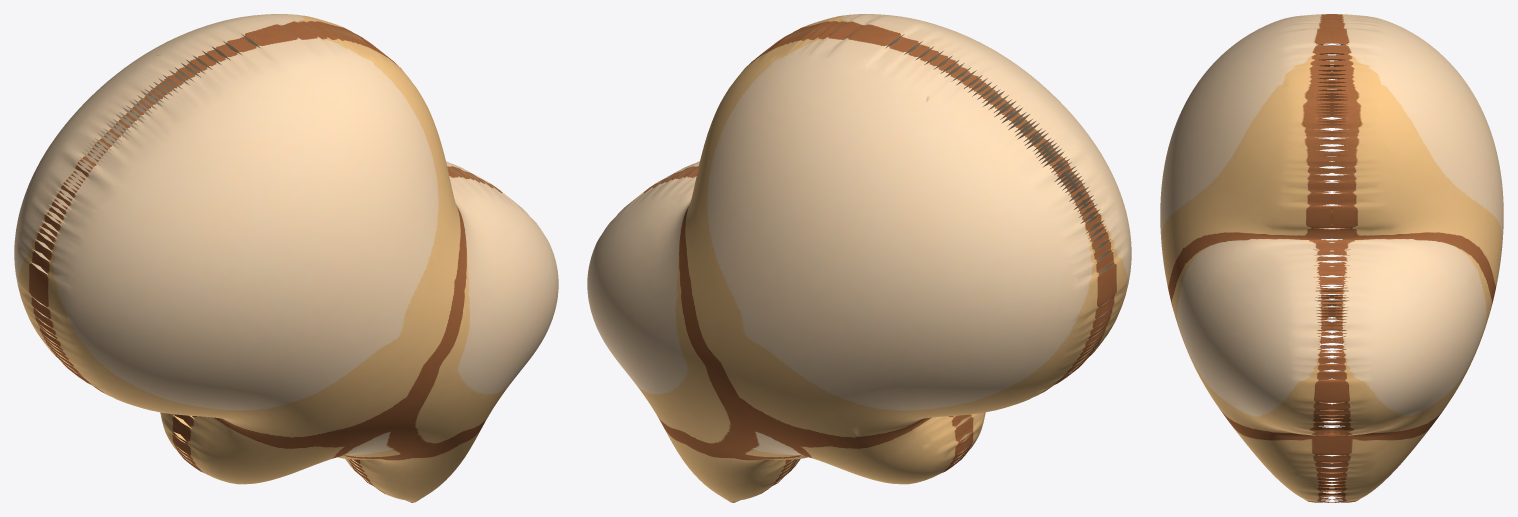
File: mushrooms_pale.glb
3 renders of one model, left to right at view 1: azimuth 30°, elevation 25°; view 2: azimuth 150°, elevation 25°; view 3: azimuth 270°, elevation 25°, orthographic. The views are drawn at different scales.
Visible parts, largest first — view 1: mushrooms_pale; view 2: mushrooms_pale; view 3: mushrooms_pale.
Boxes of the visible parts, x1,y1,x2,y2 form: mushrooms_pale: [14, 14, 558, 502]; mushrooms_pale: [587, 14, 1131, 502]; mushrooms_pale: [1160, 14, 1503, 502].
Size of the model in its own units: 0.9889 by 0.9216 by 0.6951.
1 material, 1 textured.
